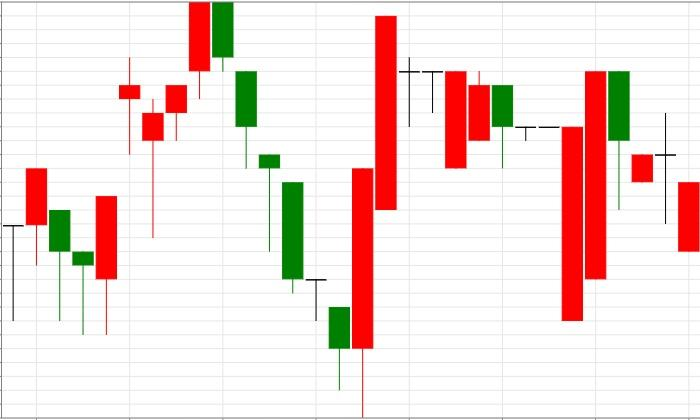bullish_engulfing_rise: (212, 2, 374, 418)
